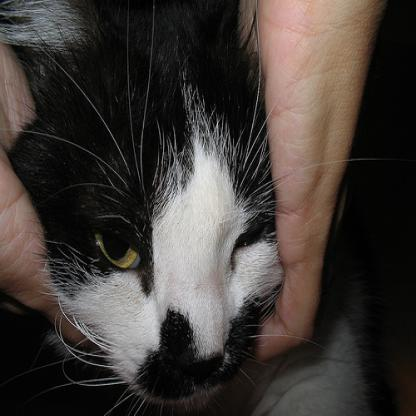cat: (2, 2, 284, 405)
